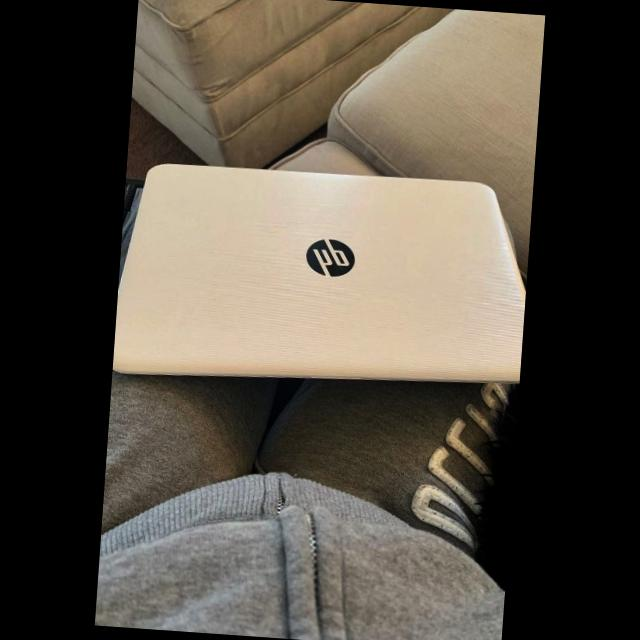laptop: (113, 152, 533, 408)
